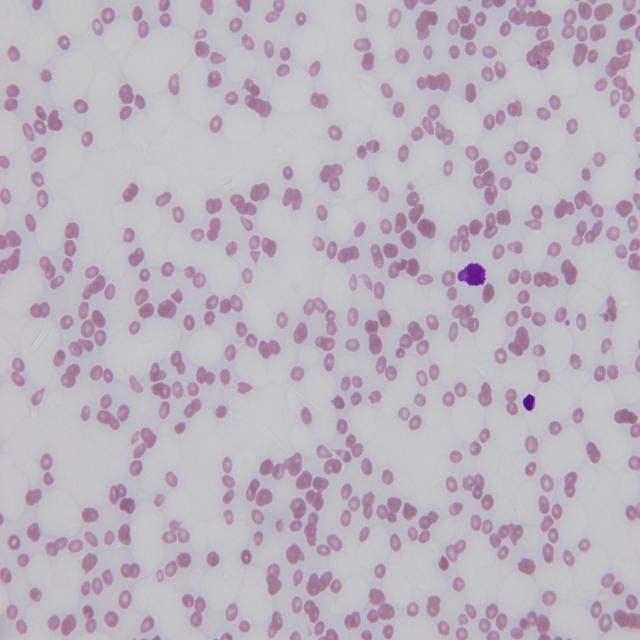cell: (458, 263, 485, 285)
